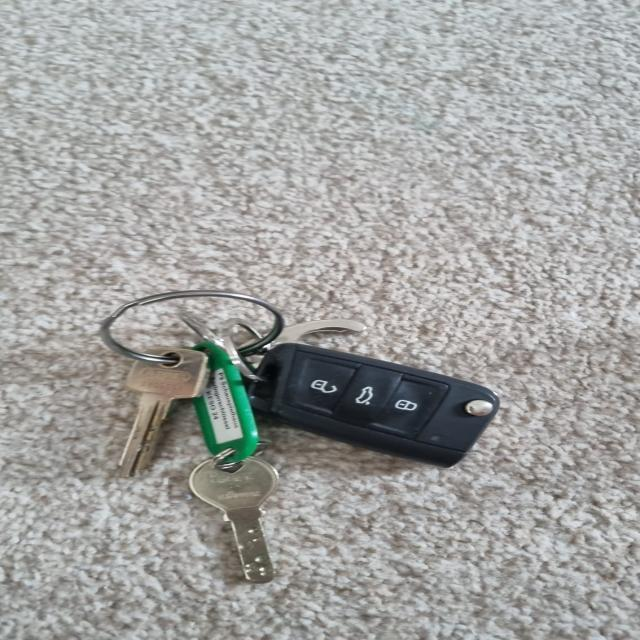Key: (189, 453, 279, 583), (120, 347, 209, 476)
